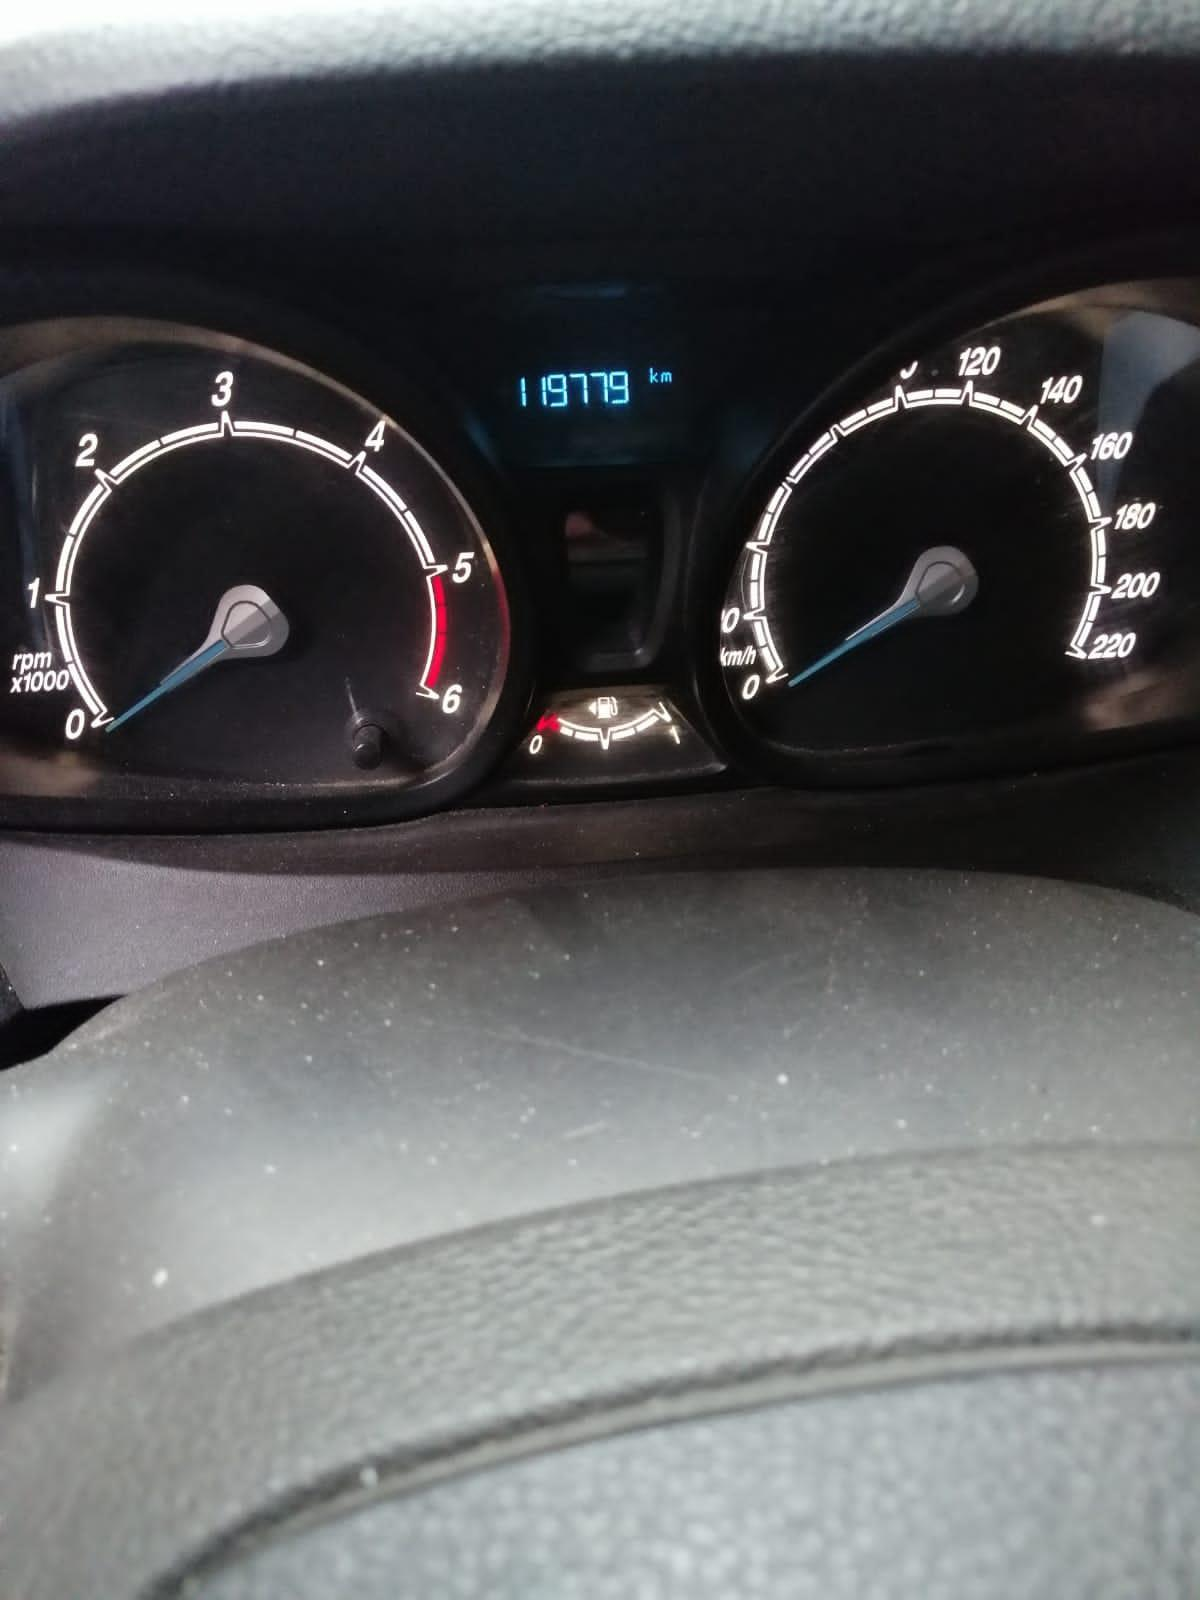1: (516, 373, 531, 408), (536, 373, 547, 407)
7: (568, 370, 589, 404), (589, 370, 608, 404)
9: (547, 370, 568, 408), (609, 369, 632, 404)
X: (648, 364, 658, 384), (661, 370, 673, 383)
odometer: (494, 346, 688, 430)
